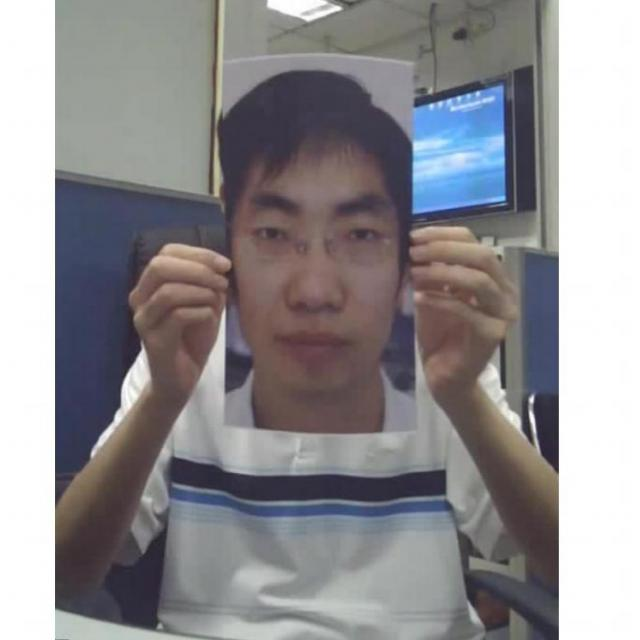photo: (214, 51, 420, 437)
